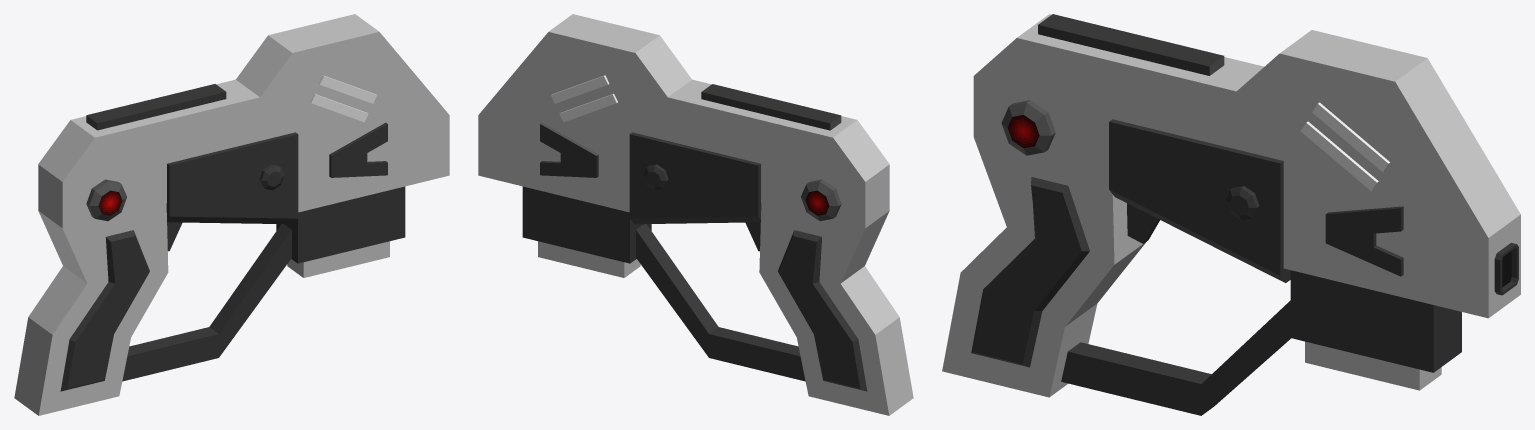
File: Handgun_D_V4.FBX
The picture shows the model from 3 angles, left to right: view 1: azimuth 30°, elevation 25°; view 2: azimuth 150°, elevation 25°; view 3: azimuth 330°, elevation 25°; orthographic projection. The views are drawn at different scales.
Parts seen in each view (by area): view 1: Handgun_D_V4, Magazine; view 2: Handgun_D_V4, Magazine; view 3: Handgun_D_V4, Magazine.
Boxes of the visible parts, x1=… form: Handgun_D_V4: x1=14, y1=14, x2=449, y2=415; Magazine: x1=287, y1=241, x2=389, y2=277; Handgun_D_V4: x1=478, y1=14, x2=913, y2=415; Magazine: x1=538, y1=241, x2=640, y2=277; Handgun_D_V4: x1=942, y1=14, x2=1520, y2=415; Magazine: x1=1305, y1=341, x2=1441, y2=390.
Bounding box in the file's own units: 133 × 92.39 × 20.38.
